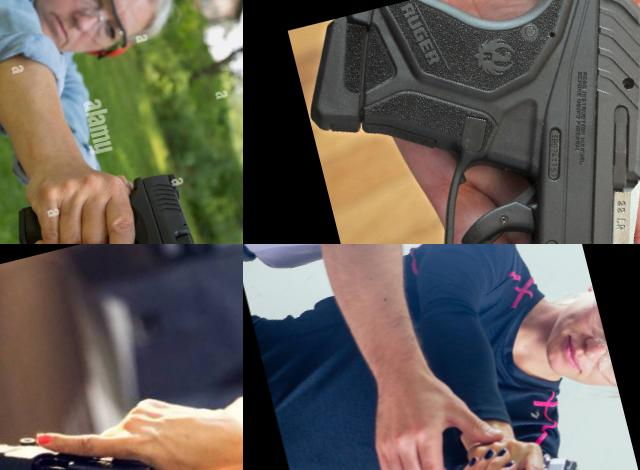handgun: (287, 0, 640, 244), (6, 160, 237, 244), (0, 394, 167, 470), (438, 428, 591, 470)
